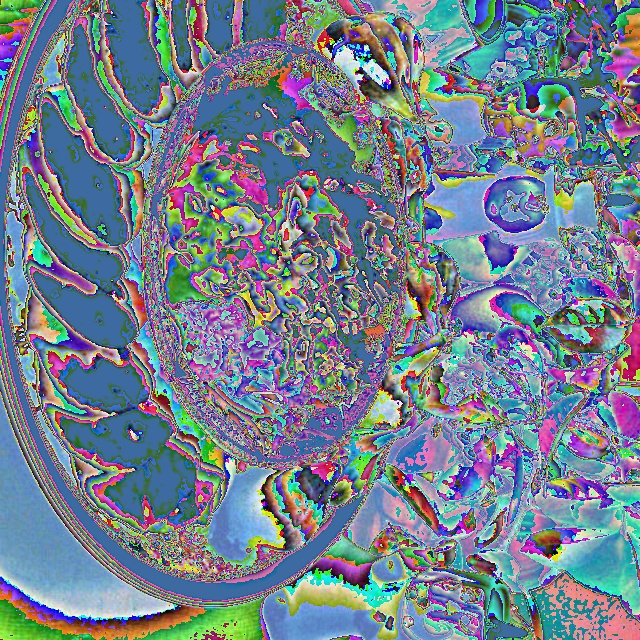background: (17, 0, 291, 535), (163, 92, 404, 453), (227, 242, 461, 552), (123, 12, 436, 234)
